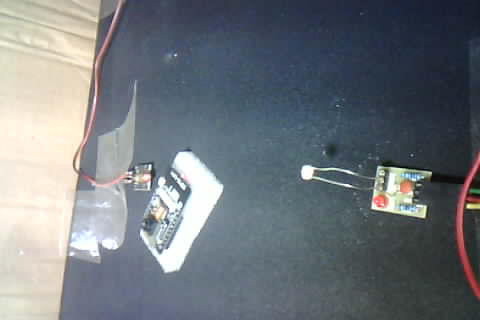esp32: (137, 156, 208, 266)
